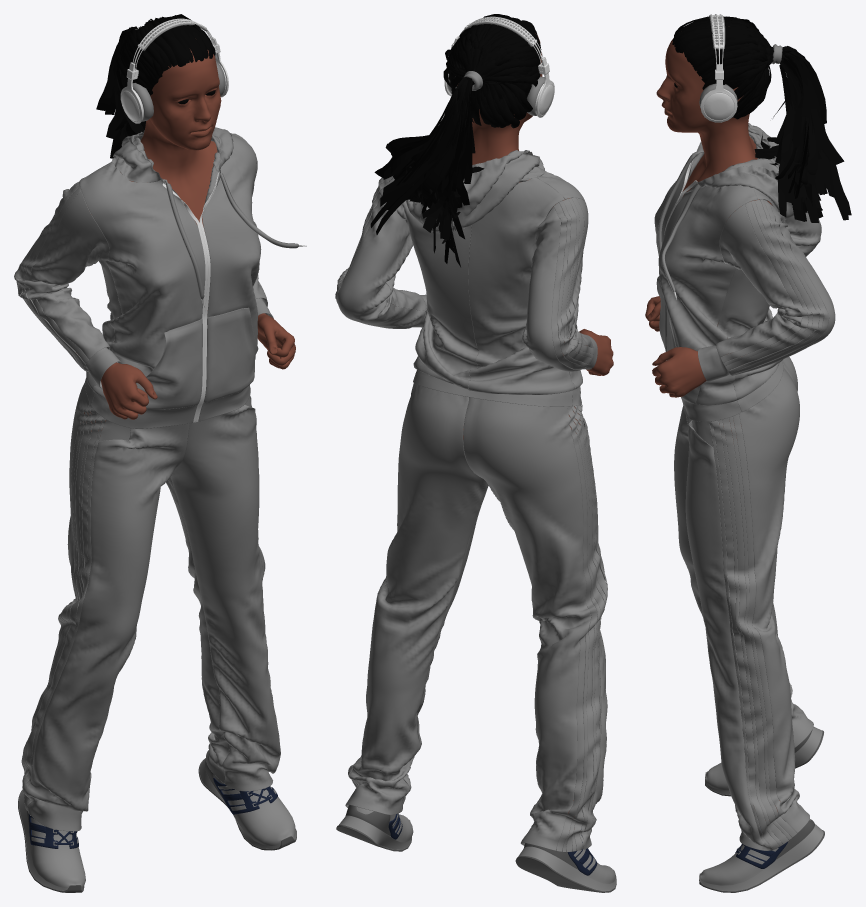
Rendered from sport_w_01_warmup.fbx.
3 renders of one model, left to right at view 1: azimuth 30°, elevation 25°; view 2: azimuth 150°, elevation 25°; view 3: azimuth 270°, elevation 25°, orthographic. The views are drawn at different scales.
Parts seen in each view (by area): view 1: sport_w_01_warmup_01; view 2: sport_w_01_warmup_01; view 3: sport_w_01_warmup_01.
Part boxes in pixels (bbox=[...]): sport_w_01_warmup_01: bbox=[14, 14, 306, 892]; sport_w_01_warmup_01: bbox=[335, 14, 616, 892]; sport_w_01_warmup_01: bbox=[645, 14, 851, 892].
Bounding box in the file's own units: 57.6 × 184 × 41.85.
